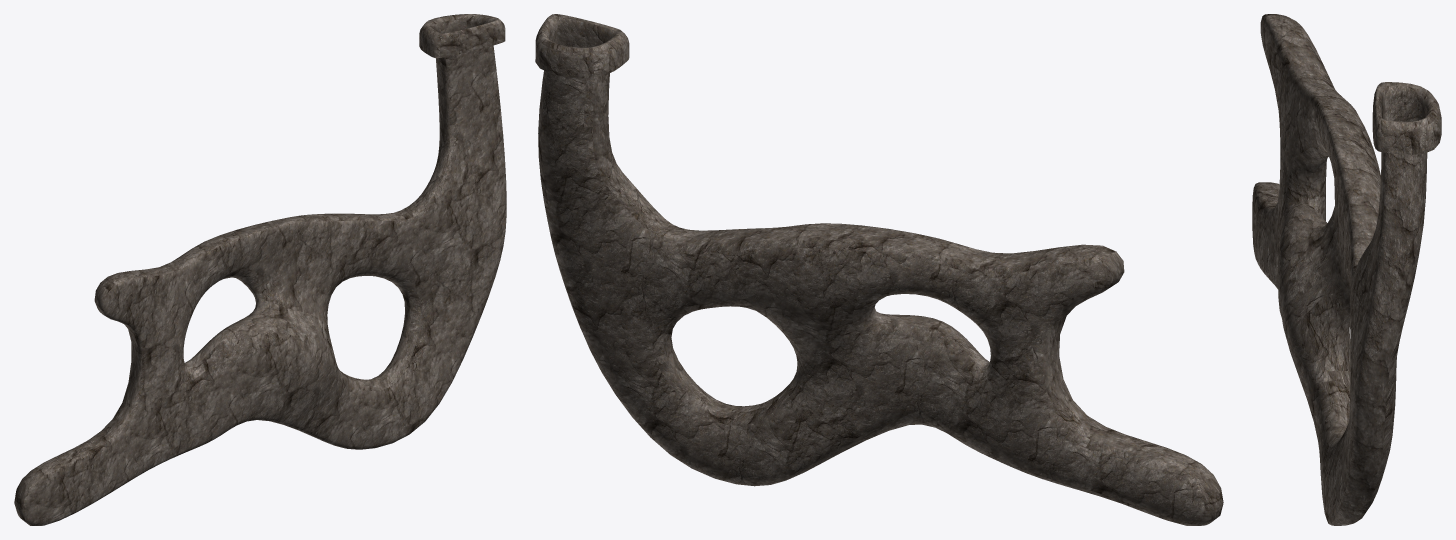
The model's file is cave.dae.
3 views of the same model, side by side, from view 1: azimuth 30°, elevation 25°; view 2: azimuth 150°, elevation 25°; view 3: azimuth 270°, elevation 25° (orthographic). The views are drawn at different scales.
Visible parts, largest first — view 1: Cube; view 2: Cube; view 3: Cube.
Boxes of the visible parts, <box> form: Cube: <box>14,14,506,525</box>; Cube: <box>535,14,1223,525</box>; Cube: <box>1252,14,1441,525</box>.
Size of the model in its own units: 32.64 by 7.94 by 22.17.
